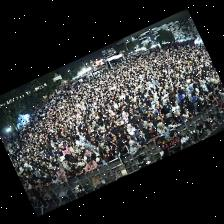person: (117, 144, 130, 168), (172, 101, 183, 123), (146, 127, 158, 142), (85, 158, 97, 172), (129, 141, 141, 155), (165, 118, 179, 130), (153, 114, 164, 129), (163, 99, 172, 117), (73, 164, 85, 177), (103, 148, 115, 161), (108, 139, 118, 154), (61, 156, 71, 171), (157, 122, 168, 134), (136, 135, 146, 147), (125, 134, 135, 146), (182, 109, 194, 119), (116, 133, 126, 145), (143, 121, 152, 134), (127, 124, 135, 138), (85, 152, 99, 160), (197, 100, 207, 111), (50, 174, 60, 185), (76, 157, 86, 168), (136, 129, 146, 140), (54, 166, 66, 175), (193, 91, 198, 111), (91, 145, 100, 156), (41, 177, 52, 186), (72, 153, 83, 162), (59, 174, 68, 184), (61, 145, 71, 154), (84, 140, 92, 151), (71, 145, 80, 154), (188, 90, 194, 103), (122, 112, 129, 122), (209, 92, 216, 102), (96, 158, 106, 165), (201, 81, 208, 91), (139, 118, 144, 131), (163, 149, 171, 157), (68, 168, 75, 177), (215, 90, 222, 99), (101, 141, 109, 148), (68, 161, 74, 167)
